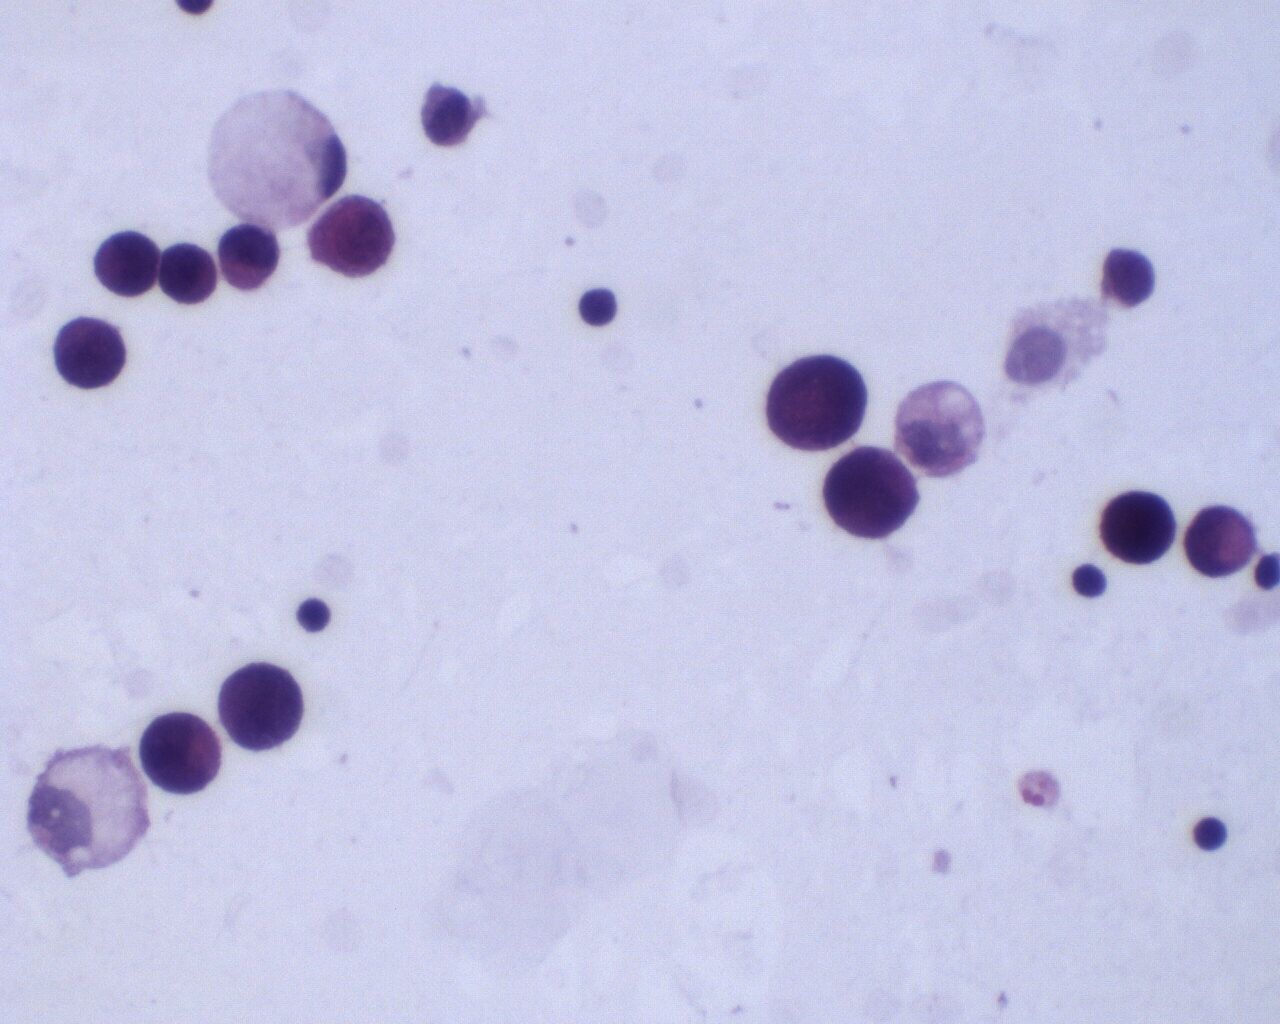ab: (763, 347, 869, 453), (817, 440, 917, 546), (217, 658, 306, 759), (140, 703, 228, 796), (311, 193, 400, 281), (1101, 487, 1178, 571), (1182, 496, 1256, 582), (53, 309, 129, 390), (93, 223, 159, 306), (156, 238, 222, 309)
histo: (206, 86, 346, 229)
lymph: (1188, 807, 1235, 863), (1067, 561, 1115, 606), (577, 282, 621, 331), (295, 591, 336, 639)
